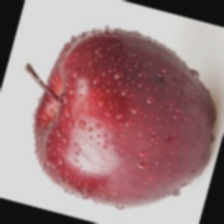apple: (29, 36, 176, 178)
